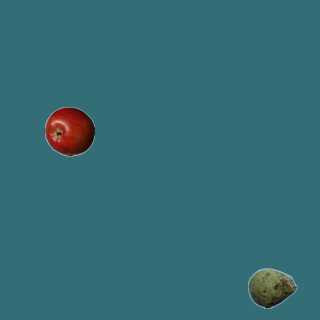Apple Braeburn: (44, 106, 94, 156)
Pear Stone: (247, 263, 297, 313)
